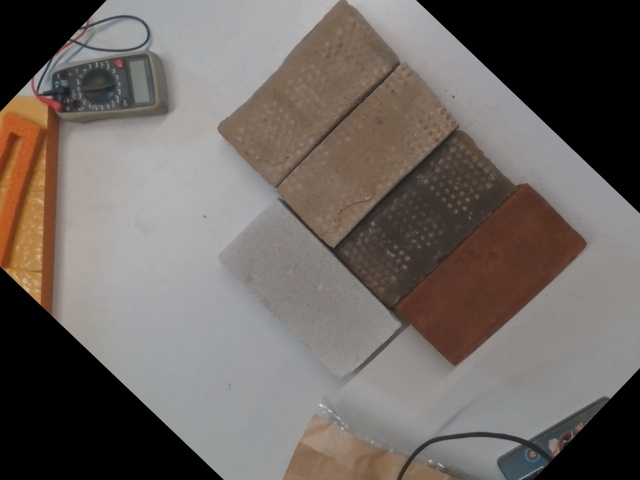brick: (400, 190, 580, 367), (280, 70, 455, 242), (223, 205, 393, 377), (221, 9, 393, 178), (341, 136, 506, 297)
